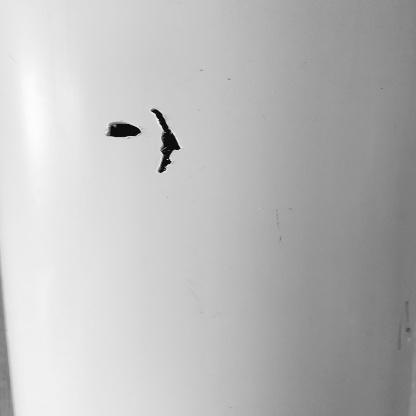kongdong: (150, 106, 183, 176), (98, 115, 148, 149)
